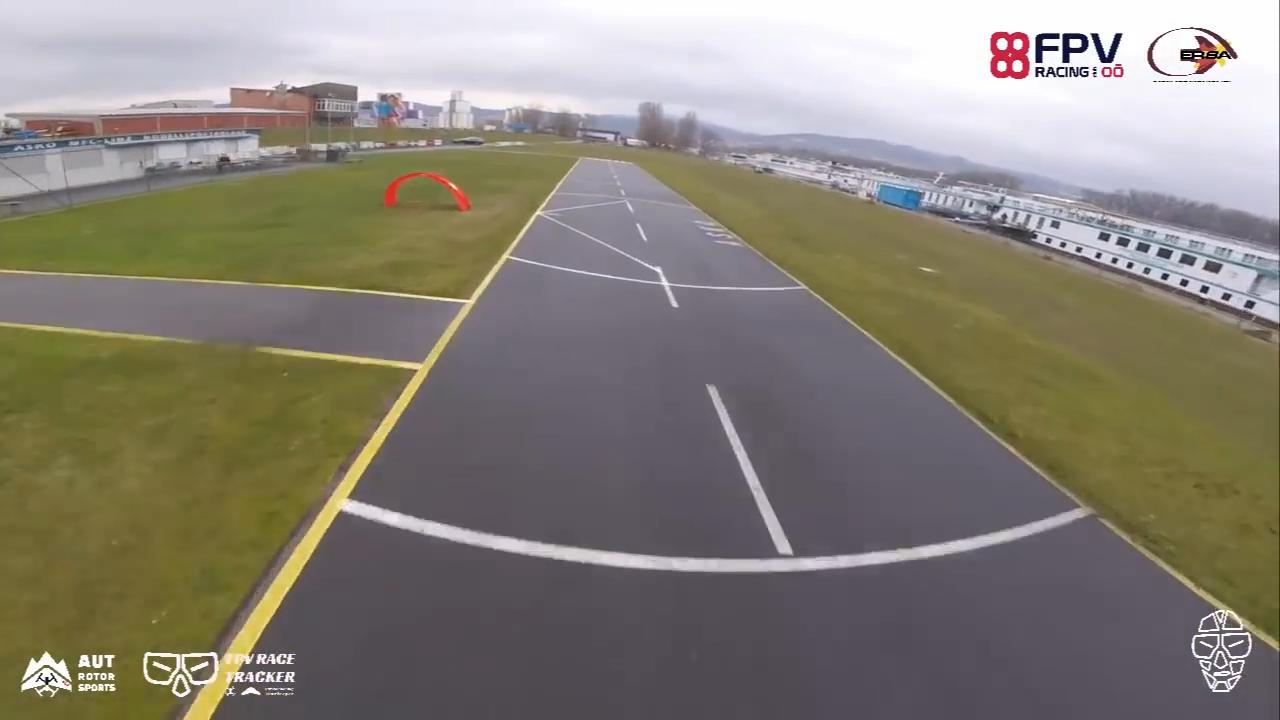gate: (383, 172, 471, 216)
